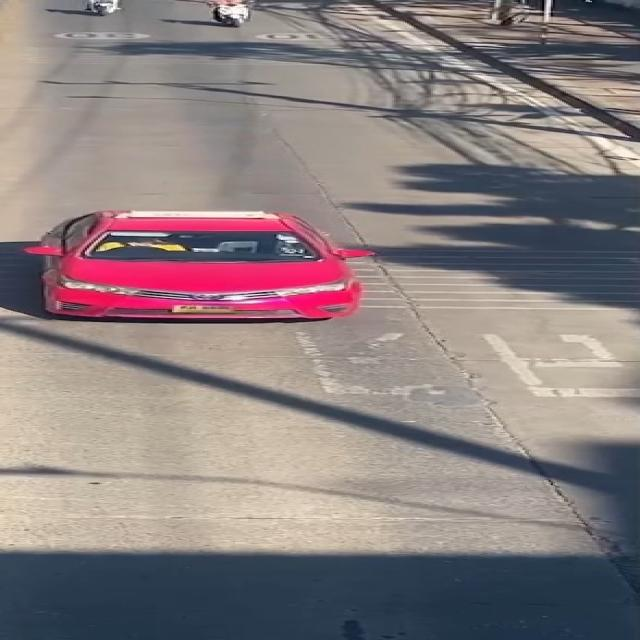car: (0, 198, 394, 345)
